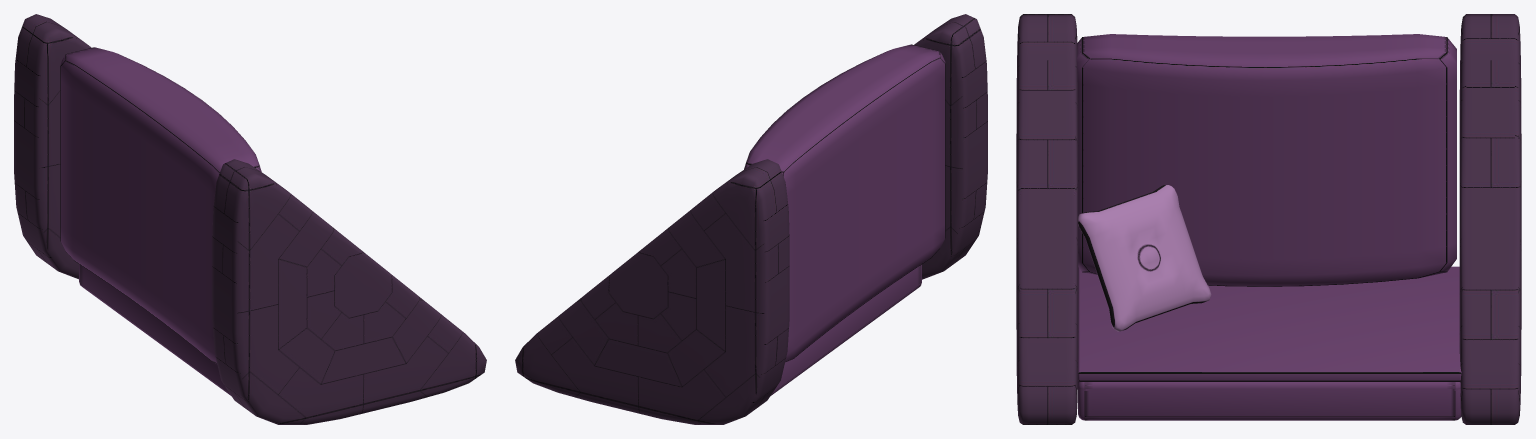
The model's file is SillonPequeño.obj.
The picture shows the model from 3 angles, left to right: view 1: azimuth 30°, elevation 25°; view 2: azimuth 150°, elevation 25°; view 3: azimuth 270°, elevation 25°; orthographic projection. The views are drawn at different scales.
Parts seen in each view (by area): view 1: Box010, Box011, Box012, ChamferBox001; view 2: Box012, Box011, Box010, ChamferBox001; view 3: Box011, ChamferBox002, Box012, Box010, ChamferBox001, ChamferBox008.
Boxes of the visible parts, box(x1,y1,x2,y2) form: Box010: box(212, 159, 486, 424); Box011: box(60, 47, 261, 363); Box012: box(14, 14, 91, 279); ChamferBox001: box(79, 264, 230, 395); Box012: box(515, 159, 789, 424); Box011: box(744, 44, 945, 362); Box010: box(914, 14, 987, 279); ChamferBox001: box(771, 264, 921, 395); Box011: box(1076, 34, 1456, 286); ChamferBox002: box(1078, 266, 1461, 381); Box012: box(1459, 14, 1521, 424); Box010: box(1016, 14, 1078, 424); ChamferBox001: box(1078, 381, 1461, 420); ChamferBox008: box(1078, 185, 1211, 331).
Size of the model in its own units: 43.48 by 43.48 by 67.28.
